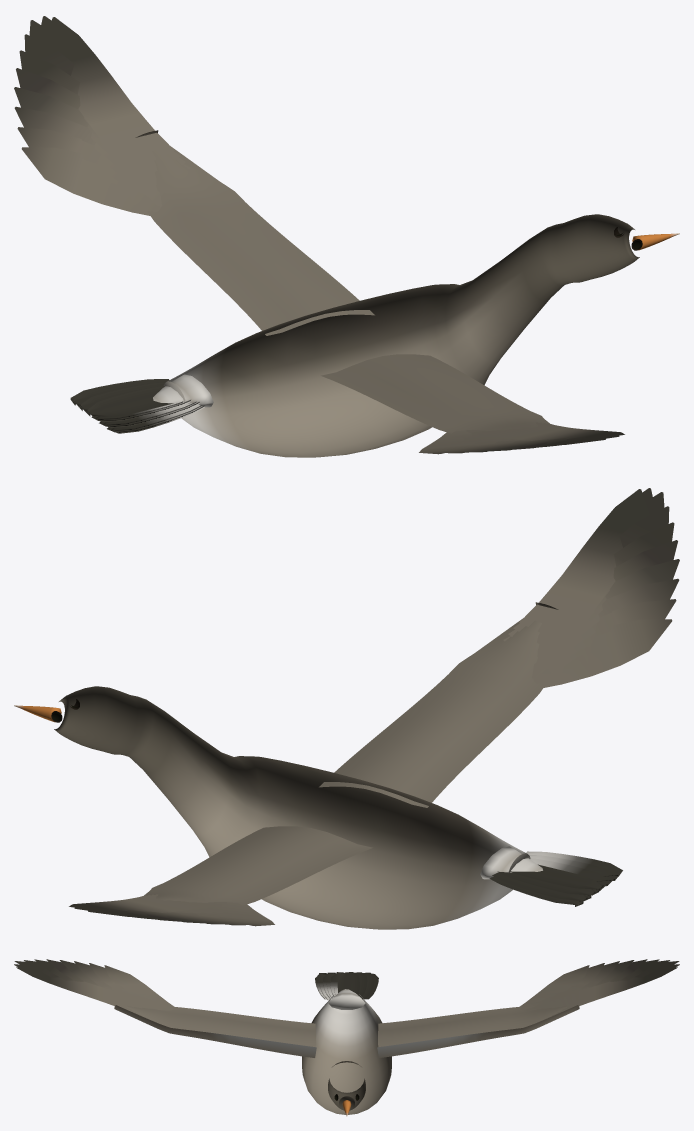
Rendered from SM_Bird_goose_flap1.glb.
The picture shows the model from 3 angles, top to bottom: view 1: azimuth 30°, elevation 25°; view 2: azimuth 150°, elevation 25°; view 3: azimuth 270°, elevation 25°; orthographic projection. The views are drawn at different scales.
Parts seen in each view (by area): view 1: SM_Bird_goose_flap1; view 2: SM_Bird_goose_flap1; view 3: SM_Bird_goose_flap1.
Part boxes in pixels (bbox=[...]): SM_Bird_goose_flap1: bbox=[14, 16, 679, 457]; SM_Bird_goose_flap1: bbox=[14, 488, 679, 929]; SM_Bird_goose_flap1: bbox=[14, 959, 679, 1116].
Size of the model in its own units: 0.876 by 0.3209 by 1.48.
